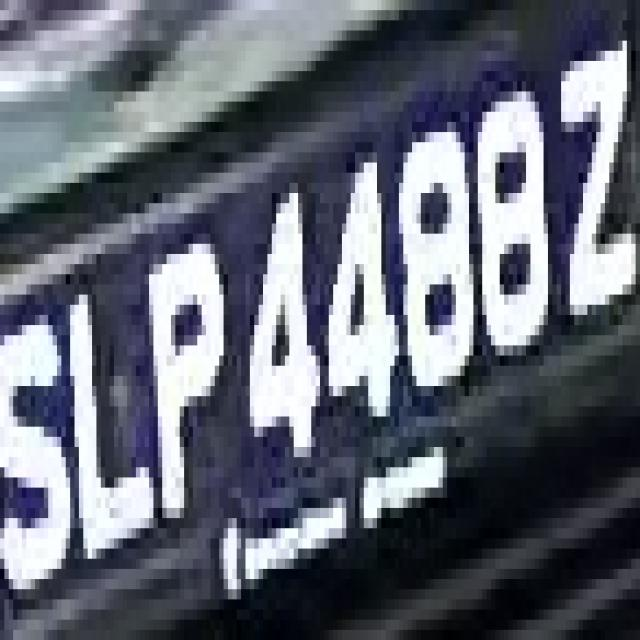4: (241, 152, 324, 508), (320, 112, 403, 467)
8: (464, 81, 556, 406), (382, 81, 482, 376)
L: (66, 274, 153, 589)
P: (140, 224, 232, 558)
S: (0, 284, 70, 590)
Z: (544, 21, 636, 346)
